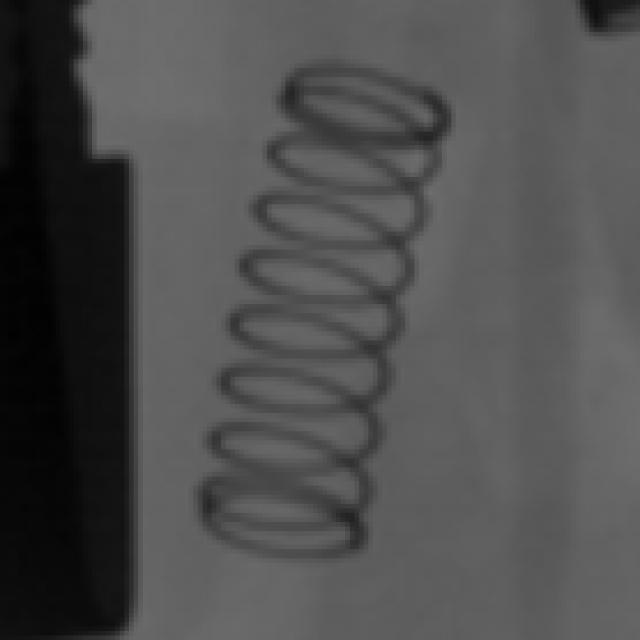KNIFE: (27, 154, 132, 632)
